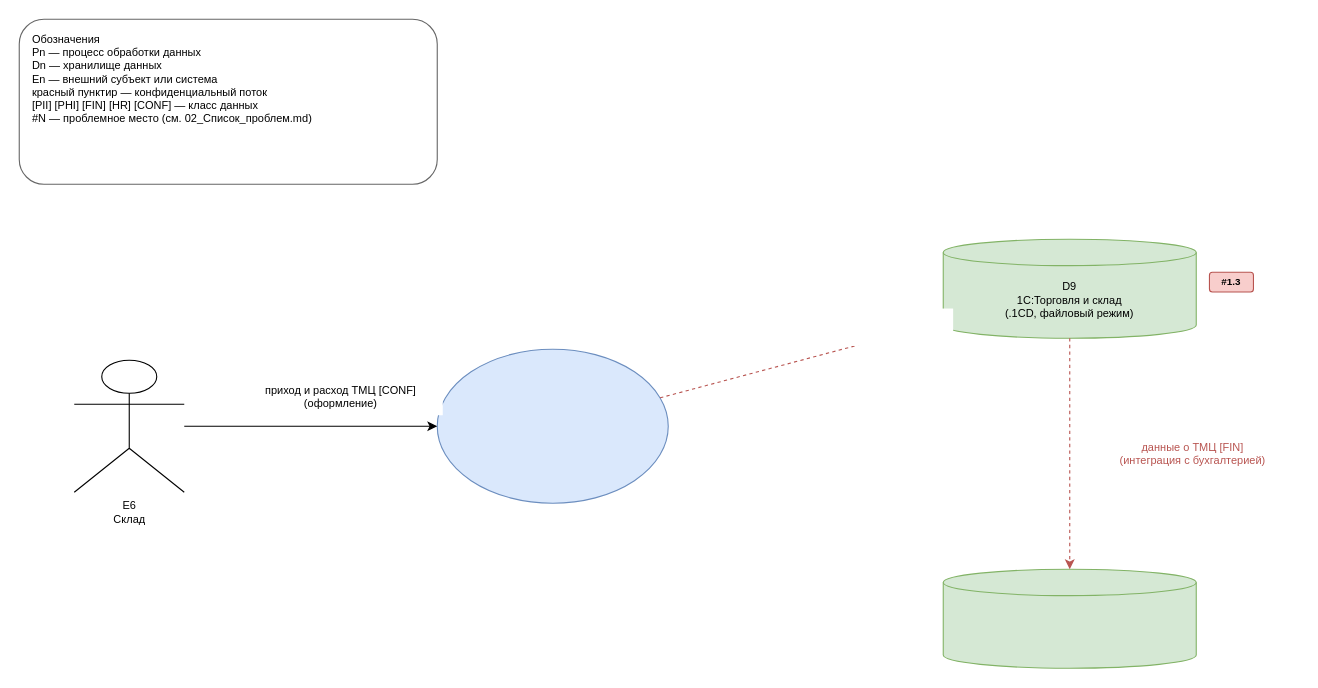
The diagram is 1318 pixels wide and 688 high, and some of its shapes have lost their labels. Here are the shapes that lost their labels. From the top down, the centre of each, then its label:
the point at 811,326: остатки, стоимость, поставщики [CONF] (учёт)
the point at 552,425: P9 Учёт ТМЦ и закупок
the point at 1069,618: D8 1С:Бухгалтерия (.1CD, файловый режим)
